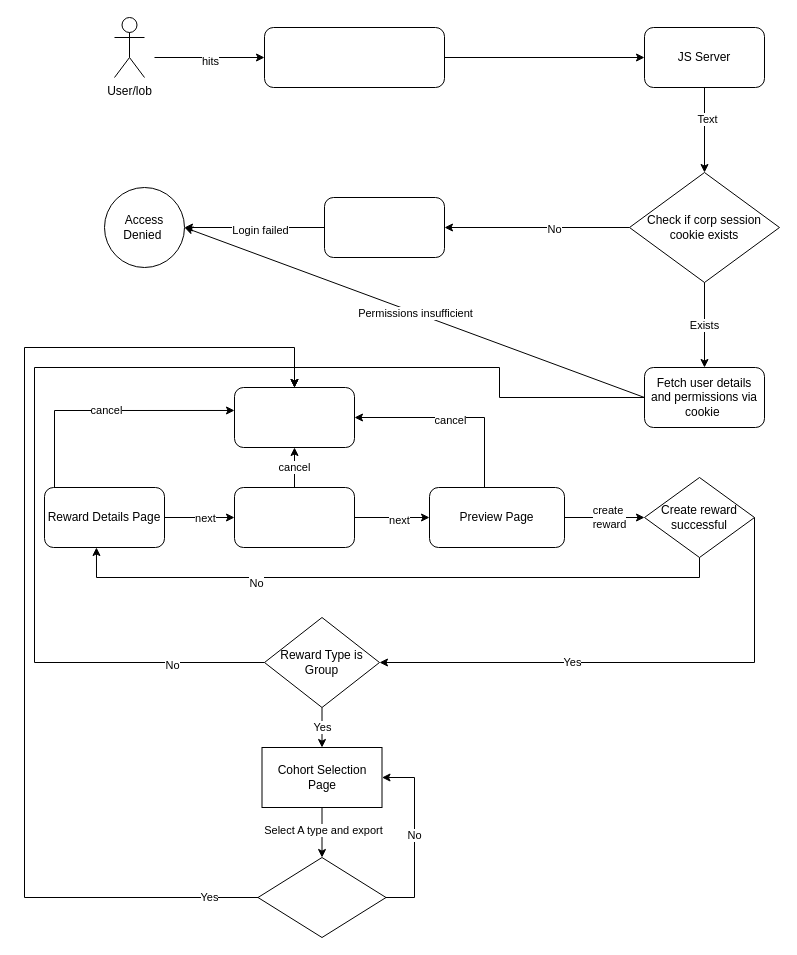
The diagram is 797 pixels wide and 955 high, and some of its shapes have lost their labels. The shapes that lost their labels are listed below. From the top down, each one's box as (x1, y1, x2, y2) in pixels, then its label:
(264, 26, 444, 88): https://acko-rewards.live.corp.acko.com/
(324, 196, 444, 258): SAML Login
(234, 386, 354, 448): Home Page/Rewards Table
(234, 486, 354, 548): Redemption Details Page(Rules
(257, 856, 386, 938): Export successful
